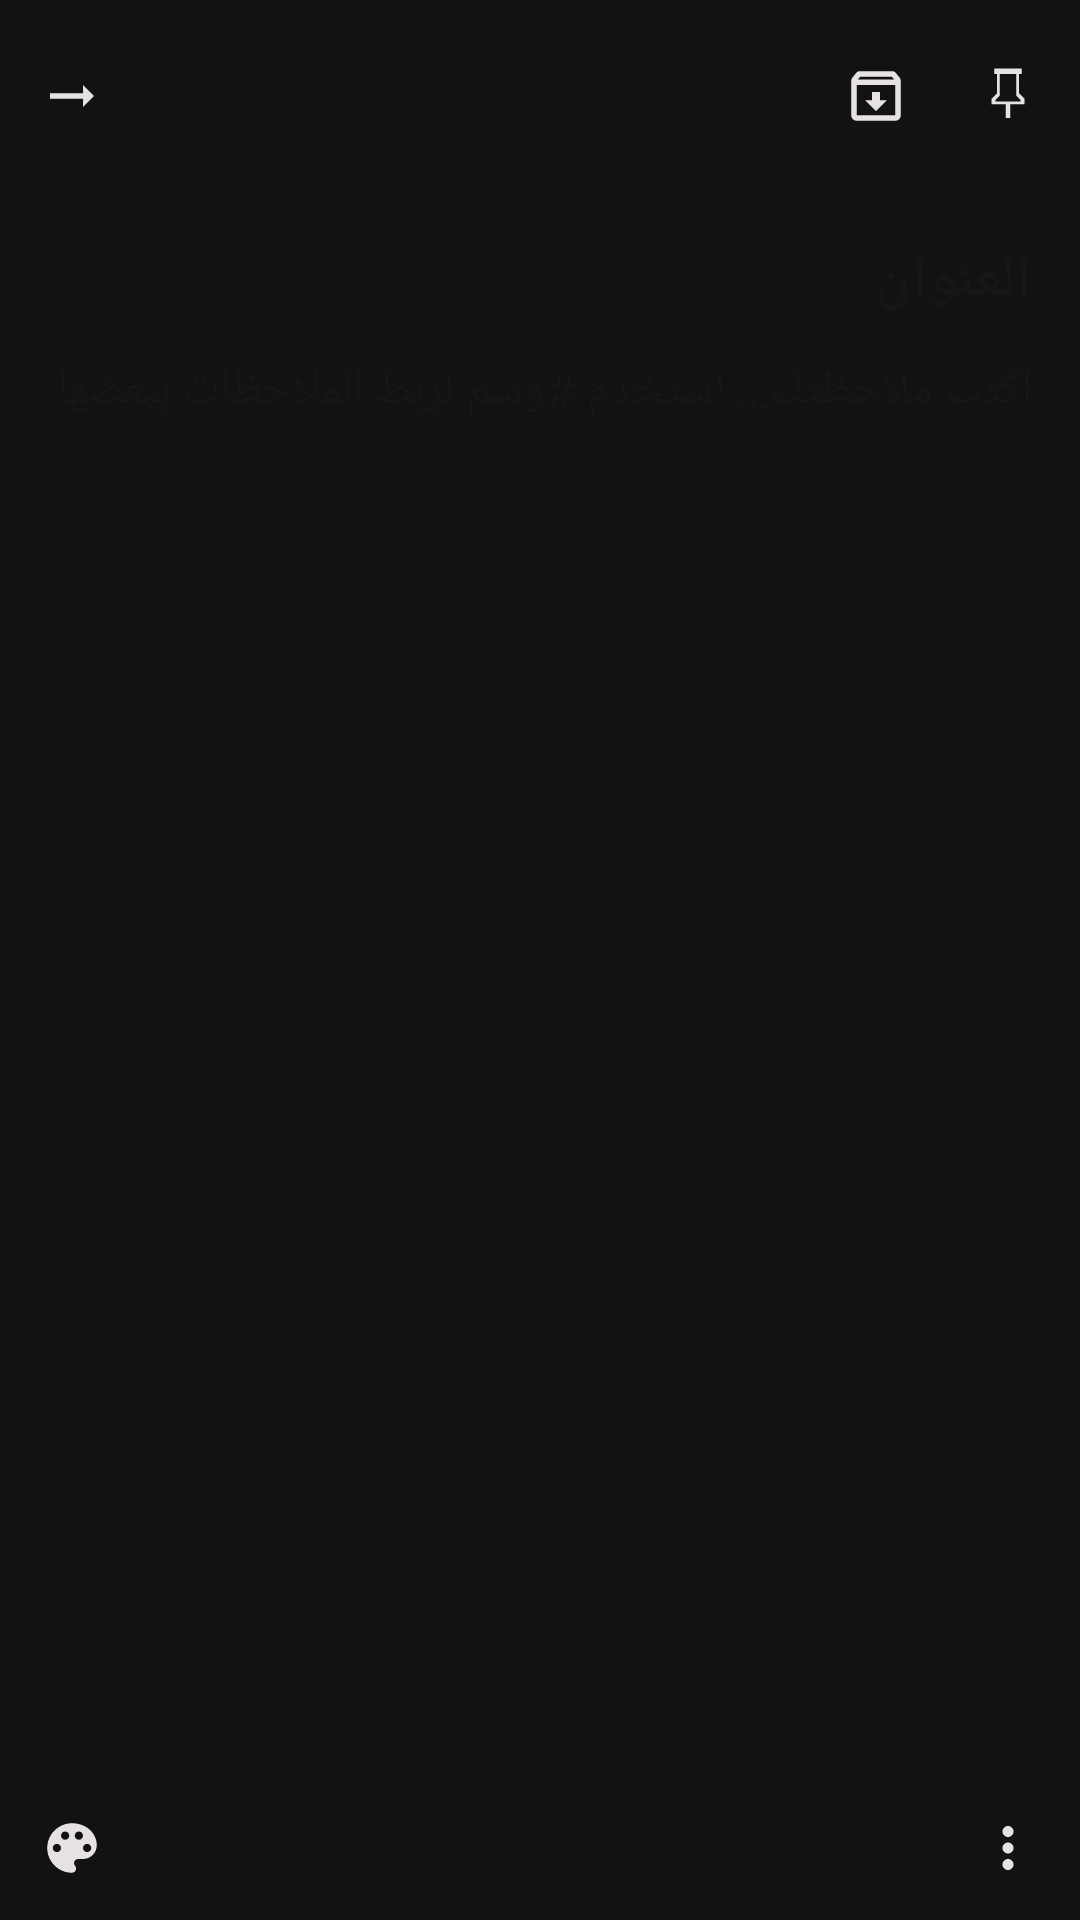

Named icons in this screenshot (1080×1920) and their centers, (x,y):
أرشفة: (876,96)
إغلاق: (72,96)
تثبيت: (1008,93)
تخصيص شكل الملاحظة: (72,1848)
خيارات إضافية: (1008,1848)
